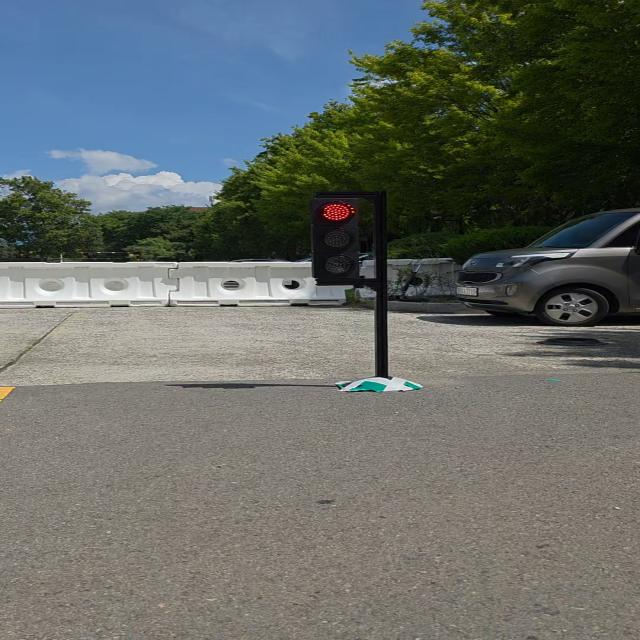red: (304, 188, 371, 289)
